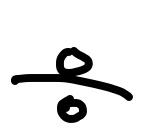div: (11, 47, 133, 123)
